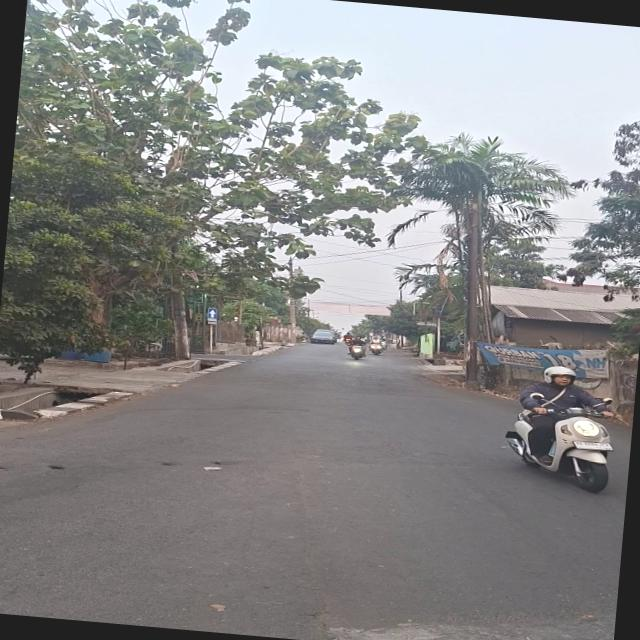WithHelmet: (511, 362, 619, 470), (344, 334, 369, 357), (368, 337, 383, 352), (341, 331, 355, 345), (378, 336, 389, 348)
